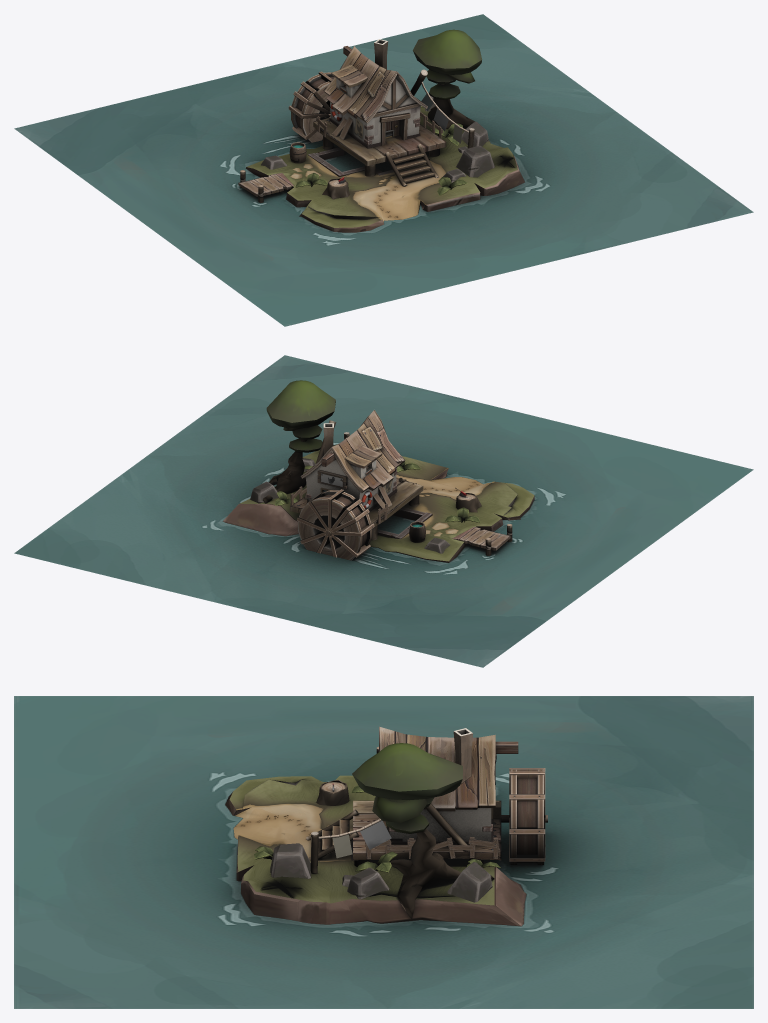
Rendered from mill.obj.
3 views of the same model, one above another, from view 1: azimuth 30°, elevation 25°; view 2: azimuth 150°, elevation 25°; view 3: azimuth 270°, elevation 25° (orthographic). The views are drawn at different scales.
Parts seen in each view (by area): view 1: m_Water_Untitled.009, m_House_Untitled.008, m_Ground_Untitled.012, m_Tree_Untitled.014, m_Rock_Untitled.013, m_WoodenBeams_Untitled, m_Pier_Untitled.003, m_Clothline_Untitled.010, m_Plants_Untitled.002, m_StoneLedge_Untitled.011; view 2: m_Water_Untitled.009, m_House_Untitled.008, m_Ground_Untitled.012, m_Tree_Untitled.014, m_Pier_Untitled.003, m_Rock_Untitled.013, m_Plants_Untitled.002, m_StoneLedge_Untitled.011; view 3: m_Water_Untitled.009, m_Ground_Untitled.012, m_House_Untitled.008, m_Tree_Untitled.014, m_Rock_Untitled.013, m_Clothline_Untitled.010, m_Fence_Untitled.007, m_Plants_Untitled.002, m_Log_Untitled.004.
Boxes of the visible parts, x1,y1,x2,y2 form: m_Water_Untitled.009: (14,14,753,326); m_House_Untitled.008: (288,39,446,186); m_Ground_Untitled.012: (246,107,524,232); m_Tree_Untitled.014: (413,29,481,136); m_Rock_Untitled.013: (261,95,494,182); m_WoodenBeams_Untitled: (332,77,420,145); m_Pier_Untitled.003: (238,170,293,202); m_Clothline_Untitled.010: (410,69,474,148); m_Plants_Untitled.002: (295,106,467,195); m_StoneLedge_Untitled.011: (308,147,423,176); m_Water_Untitled.009: (14,355,753,667); m_House_Untitled.008: (290,410,423,560); m_Ground_Untitled.012: (223,444,534,562); m_Tree_Untitled.014: (263,380,335,503); m_Pier_Untitled.003: (452,524,512,555); m_Rock_Untitled.013: (250,458,449,553); m_Plants_Untitled.002: (275,457,480,522); m_StoneLedge_Untitled.011: (377,507,432,538); m_Water_Untitled.009: (14,696,753,1008); m_Ground_Untitled.012: (225,775,526,926); m_House_Untitled.008: (306,726,547,866); m_Tree_Untitled.014: (352,743,494,919); m_Rock_Untitled.013: (270,843,492,902); m_Clothline_Untitled.010: (310,803,469,873); m_Fence_Untitled.007: (365,837,498,859); m_Plants_Untitled.002: (254,785,500,872); m_Log_Untitled.004: (316,780,349,805).
Bounding box in the file's own units: 4 × 1.06 × 4.
22 materials, 22 textured.
